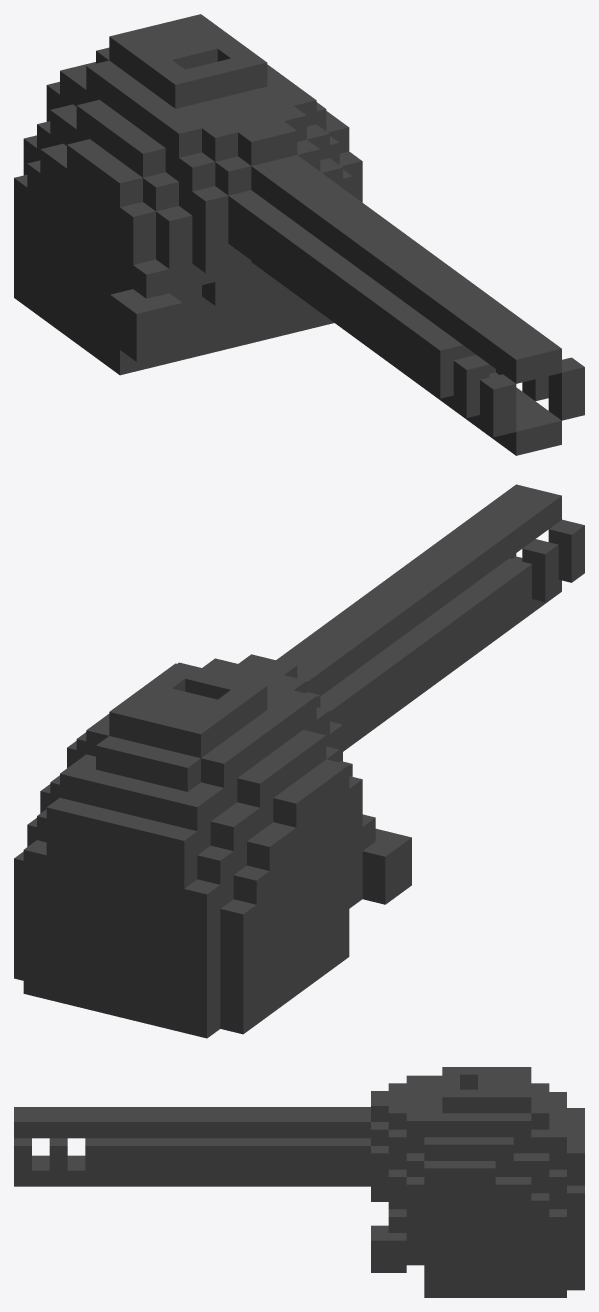
File: HeavyTank-1.obj
3 renders of one model, top to bottom at view 1: azimuth 30°, elevation 25°; view 2: azimuth 150°, elevation 25°; view 3: azimuth 270°, elevation 25°, orthographic. The views are drawn at different scales.
Bounding box in the file's own units: 1.2 × 1.1 × 3.2.
